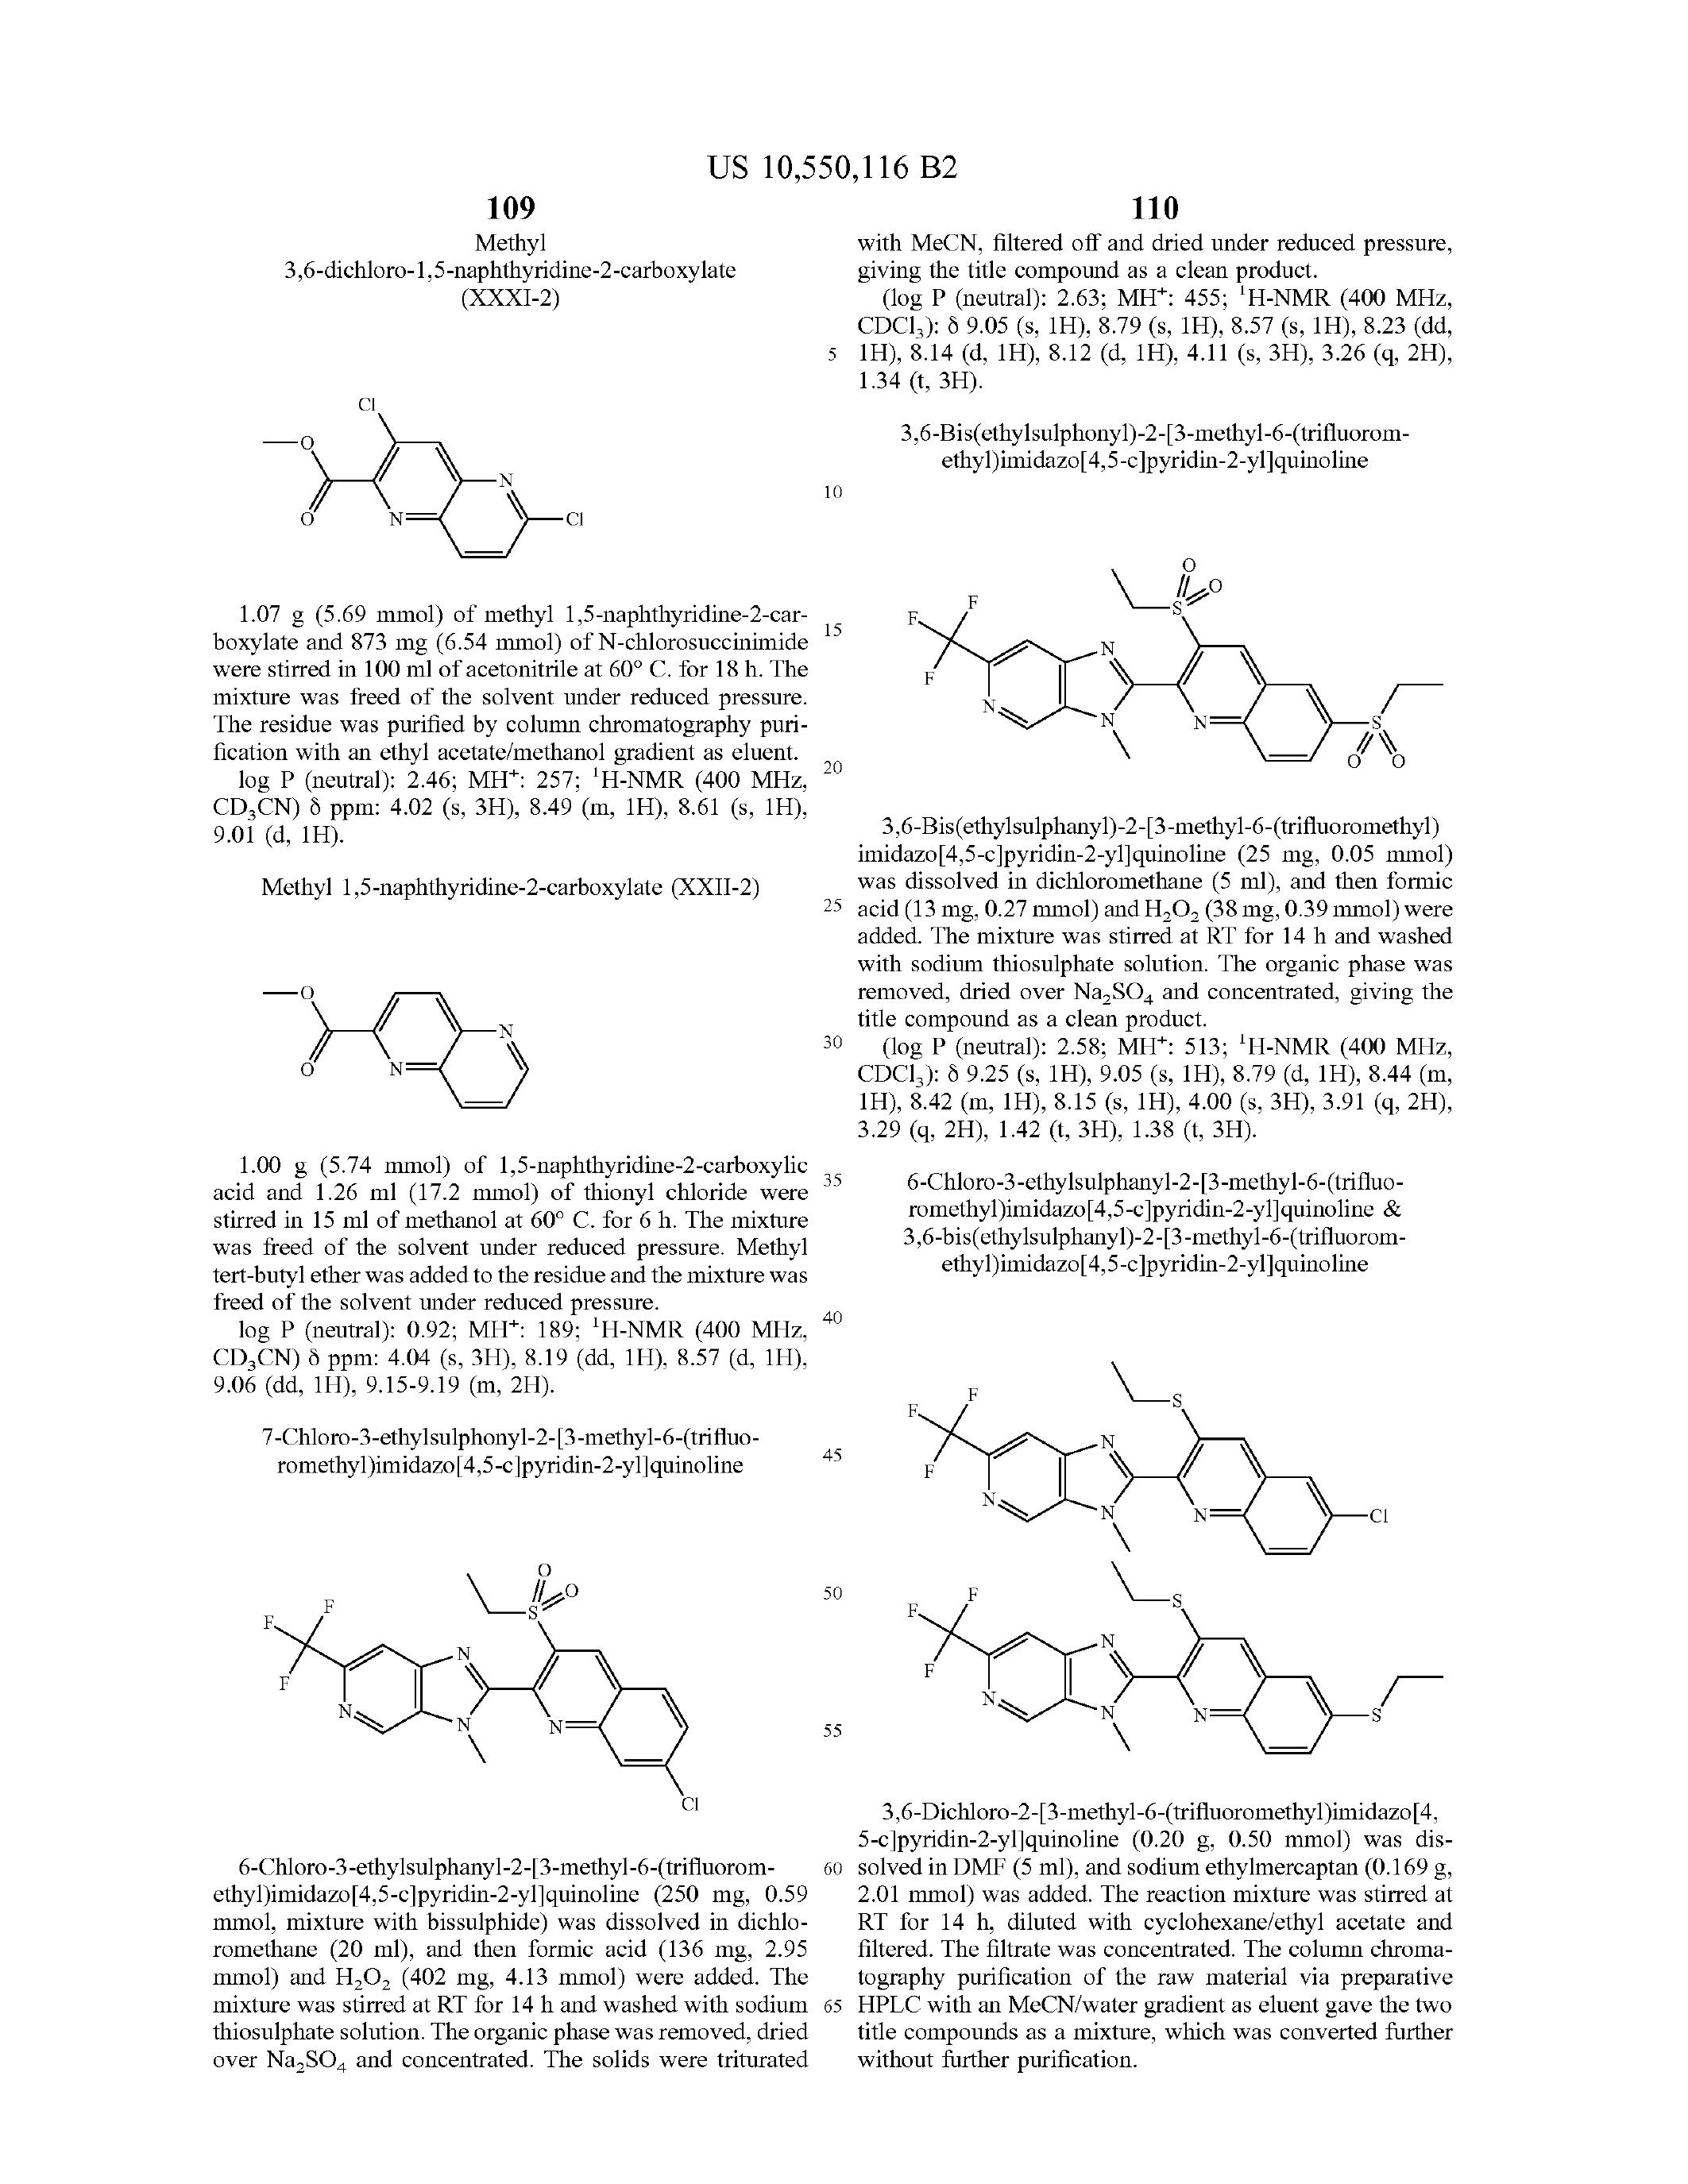intermediates: (202, 1535, 764, 1840), (878, 503, 1452, 789), (243, 351, 612, 592), (215, 901, 548, 1122)
relevant-structures: (860, 1324, 1500, 1783)
